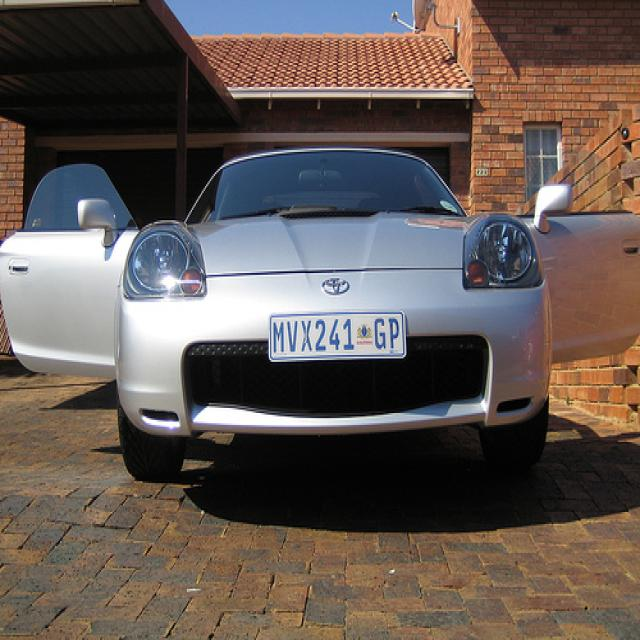car: (1, 144, 640, 486)
